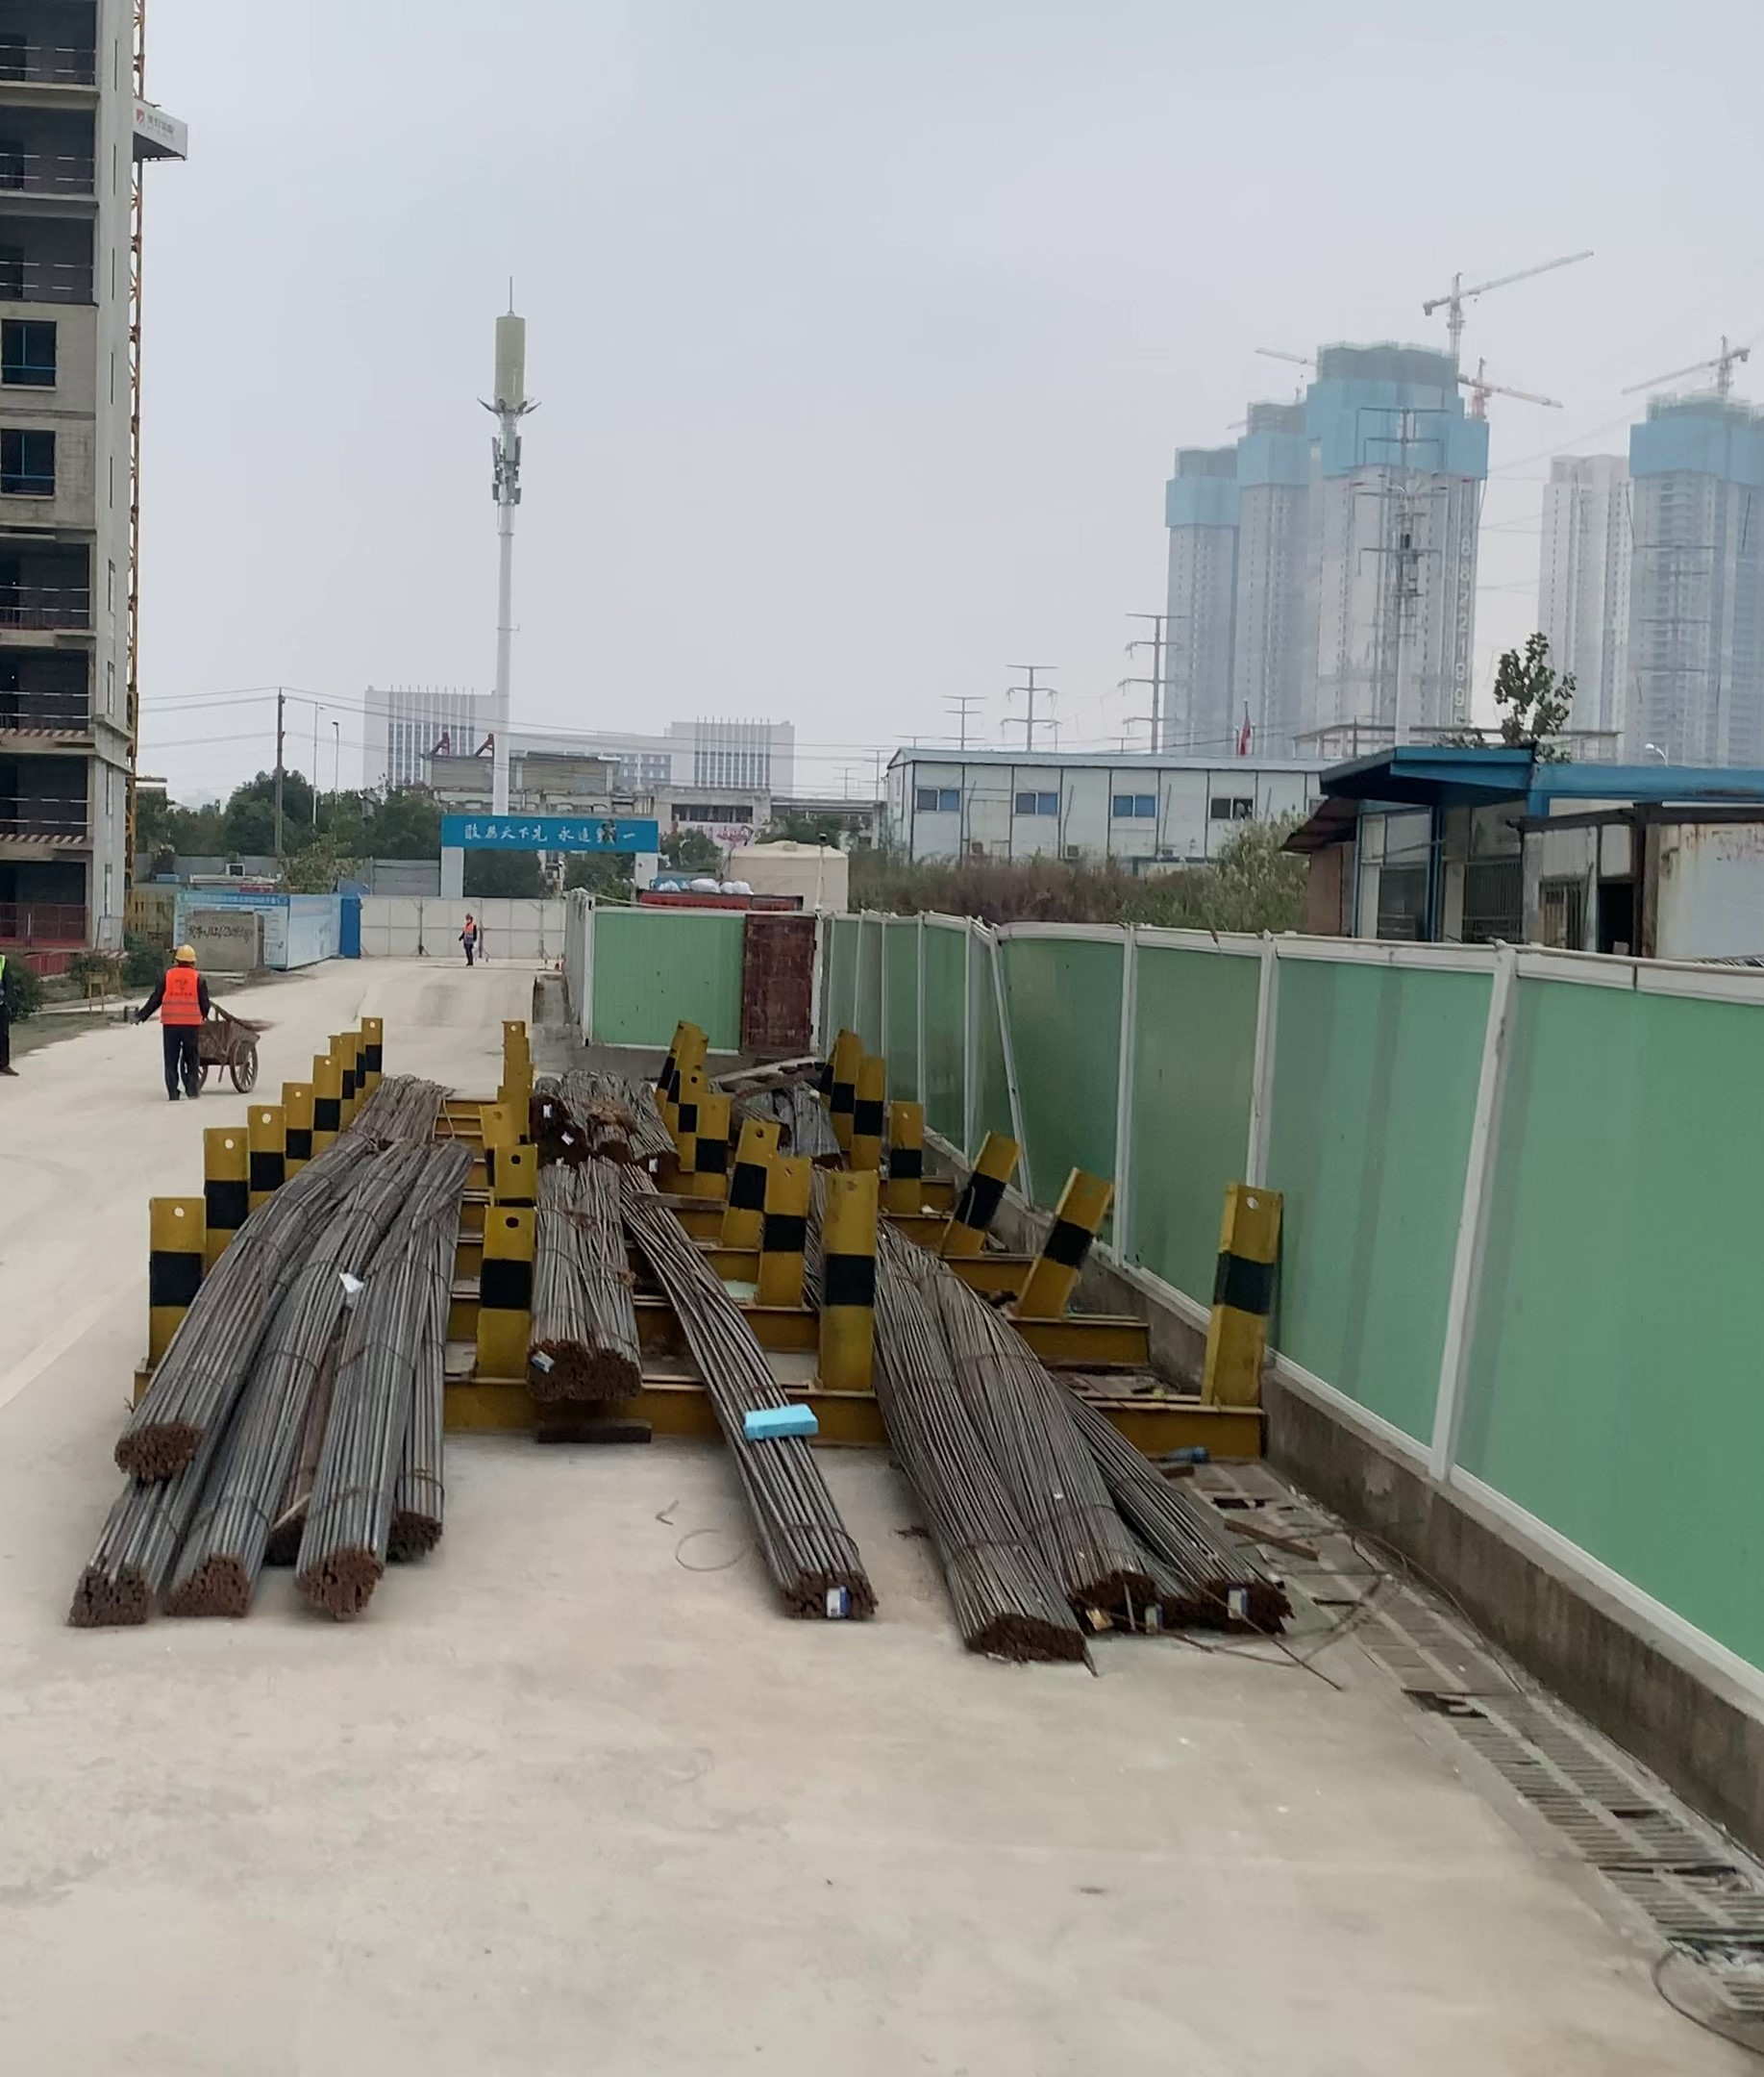rebar: (1200, 1570, 1304, 1645), (777, 1549, 875, 1627), (962, 1608, 1085, 1669), (297, 1542, 374, 1619), (108, 1419, 201, 1482), (1071, 1559, 1155, 1627), (72, 1556, 157, 1619), (177, 1550, 248, 1624), (530, 1340, 595, 1402), (381, 1507, 436, 1556), (598, 1353, 642, 1403)
